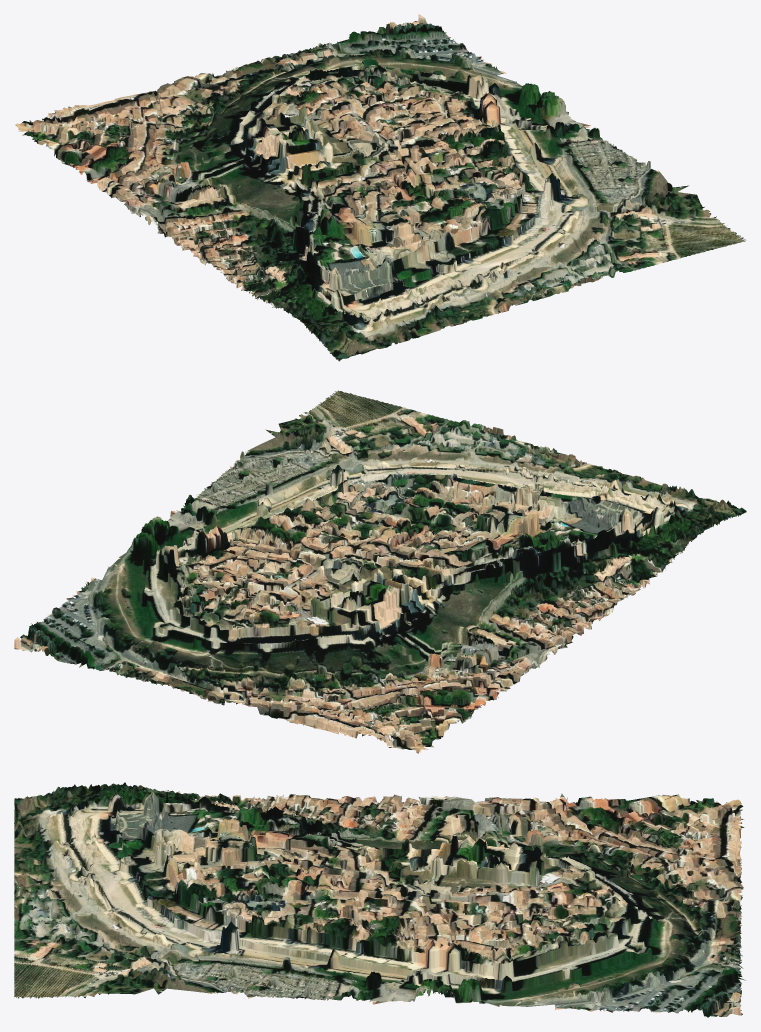
The model's file is cite-carcassonne.glb.
3 renders of one model, top to bottom at view 1: azimuth 30°, elevation 25°; view 2: azimuth 150°, elevation 25°; view 3: azimuth 270°, elevation 25°, orthographic. The views are drawn at different scales.
Parts seen in each view (by area): view 1: Object_2; view 2: Object_2; view 3: Object_2.
Part boxes in pixels (box(x1,y1,x2,y2)): Object_2: box(15, 14, 745, 361); Object_2: box(14, 390, 746, 753); Object_2: box(14, 782, 745, 1017).
Size of the model in its own units: 1806 by 190 by 2434.
1 material, 1 textured.
